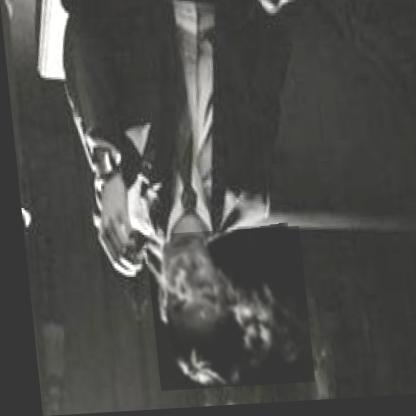smoke: (140, 229, 307, 392)
